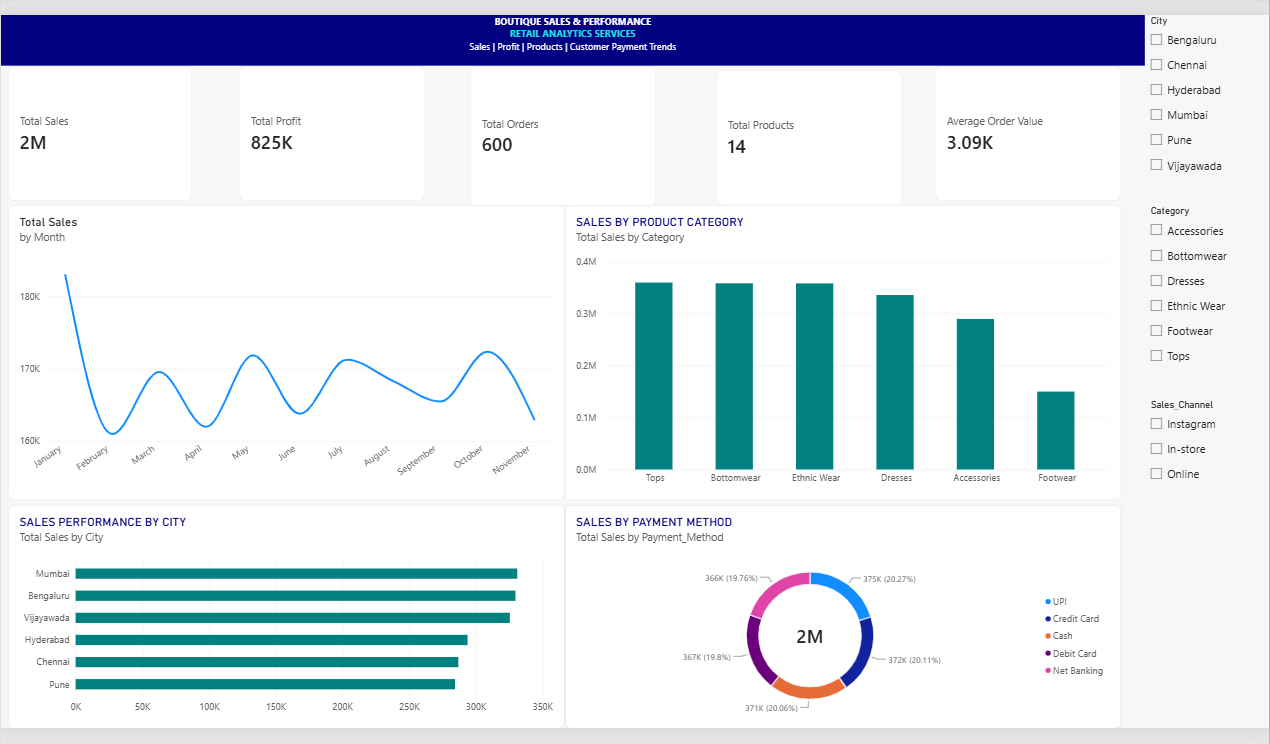

Layout of this report page (visuals, bound fields, positions):
{"tool":"powerbi","page":{"name":"Page 1","canvas":[1920,1080],"ordinal":0},"visuals":[{"type":"cardVisual","fields":{"Data":["Table1.Total Sales"]},"box":[11.3,76.5,277.8,204.1],"z":0},{"type":"cardVisual","fields":{"Data":["Table1.Total Profit"]},"box":[360,76.5,280.6,204.1],"z":1},{"type":"cardVisual","fields":{"Data":["Table1.Total Orders"]},"box":[711.5,76.5,280.6,212.6],"z":2},{"type":"cardVisual","fields":{"Data":["Table1.Total Products"]},"box":[1082.8,85,280.6,204.1],"z":3},{"type":"cardVisual","fields":{"Data":["Table1.Average Order Value"]},"box":[1414.5,76.5,280.6,204.1],"z":4},{"type":"lineChart","fields":{"Category":["Table1.Order_Date.Variation.Date Hierarchy.Month"],"Y":["Table1.Total Sales"]},"box":[11.3,289.1,841.9,445],"z":5},{"type":"clusteredColumnChart","title":"SALES BY PRODUCT CATEGORY","fields":{"Category":["Table1.Category"],"Y":["Table1.Total Sales"]},"box":[853.2,289.1,841.9,445],"z":6},{"type":"clusteredBarChart","title":"SALES PERFORMANCE BY CITY","fields":{"Category":["Table1.City"],"Y":["Table1.Total Sales"]},"box":[11.3,742.7,841.9,337.3],"z":7},{"type":"donutChart","title":"SALES BY PAYMENT METHOD","fields":{"Category":["Table1.Payment_Method"],"Y":["Table1.Total Sales"]},"box":[853.2,742.7,841.9,337.3],"z":8},{"type":"slicer","fields":{"Values":["Table1.City"]},"box":[1732,0,189.9,280.6],"z":9},{"type":"slicer","fields":{"Values":["Table1.Category"]},"box":[1732,289.1,187.1,292],"z":10},{"type":"slicer","fields":{"Values":["Table1.Sales_Channel"]},"box":[1732,581.1,187.1,198.4],"z":11},{"type":"textbox","box":[0,0,1732,76.5],"z":13}]}

Visuals, with their boxes on the page's 1920x1080 design canvas (x1, y1, x2, y2). These are canvas units, not pixel positions in the 1270x744 screenshot, which may show the page scaled, cropped or inside an application window:
cardVisual - Table1.Total Sales: 11, 76, 289, 281
cardVisual - Table1.Total Profit: 360, 76, 641, 281
cardVisual - Table1.Total Orders: 712, 76, 992, 289
cardVisual - Table1.Total Products: 1083, 85, 1363, 289
cardVisual - Table1.Average Order Value: 1414, 76, 1695, 281
lineChart - Table1.Order_Date.Variation.Date Hierarchy.Month x Table1.Total Sales: 11, 289, 853, 734
"SALES BY PRODUCT CATEGORY" clusteredColumnChart: 853, 289, 1695, 734
"SALES PERFORMANCE BY CITY" clusteredBarChart: 11, 743, 853, 1080
"SALES BY PAYMENT METHOD" donutChart: 853, 743, 1695, 1080
slicer - Table1.City: 1732, 0, 1922, 281
slicer - Table1.Category: 1732, 289, 1919, 581
slicer - Table1.Sales_Channel: 1732, 581, 1919, 780
textbox: 0, 0, 1732, 76
